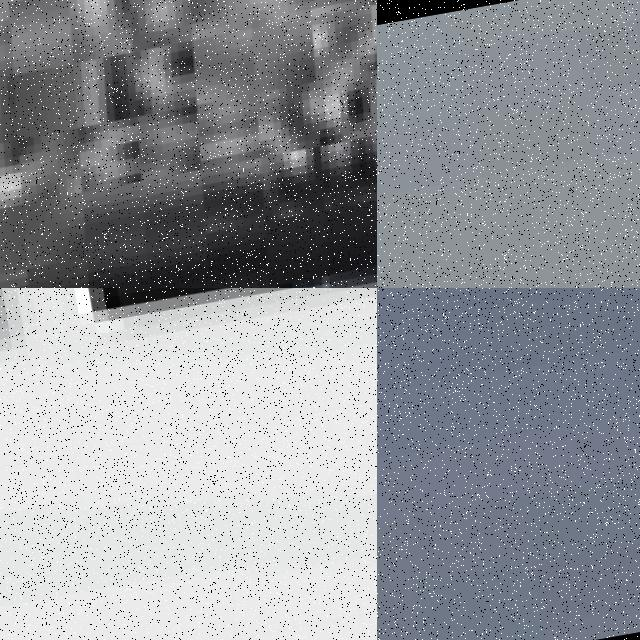0: (0, 0, 377, 288)
drone: (0, 529, 377, 640)
